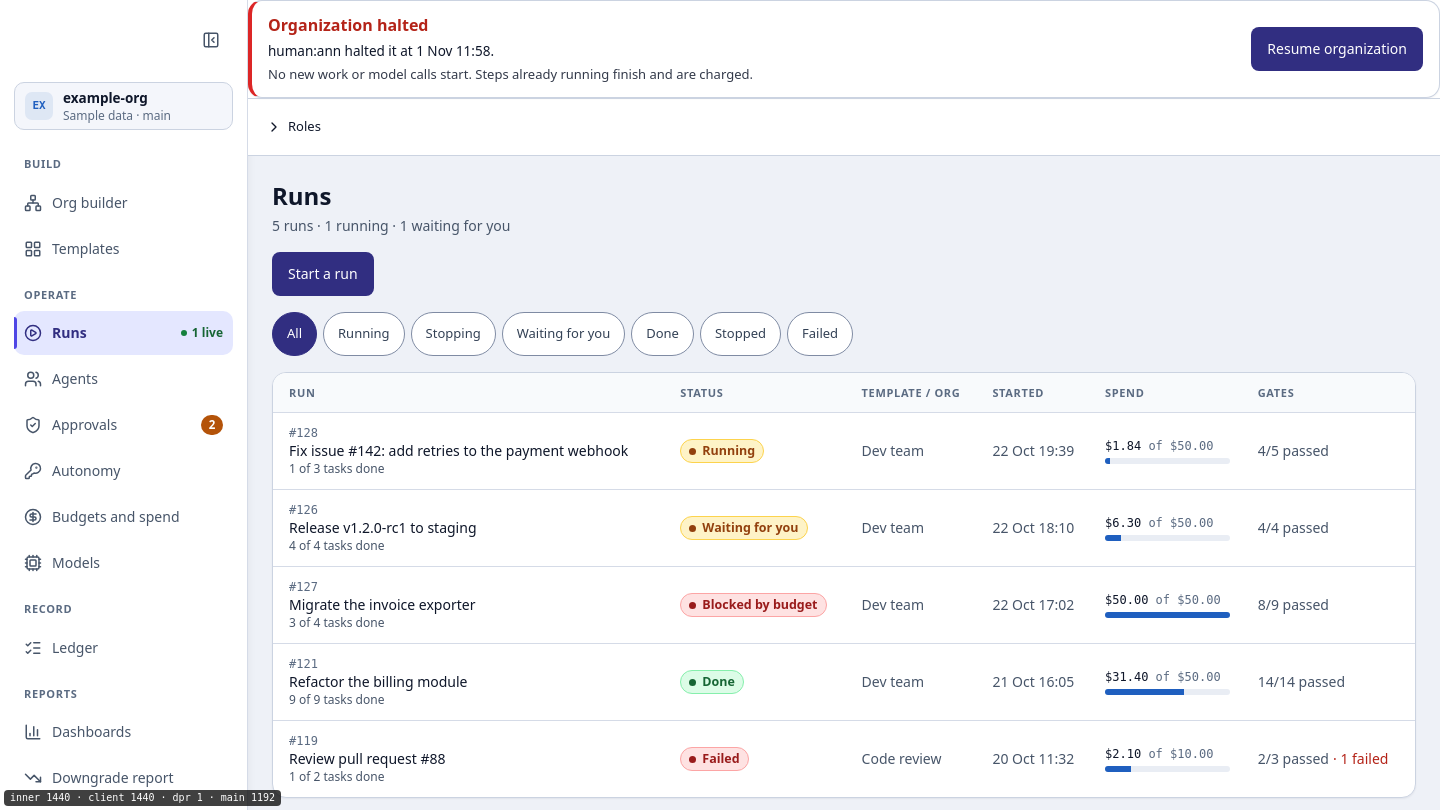
Test case: organization status bar (E19) › shows a halt on every page, with the Resume button for a person
The width and height of the screenshot is (1440, 810).
Expected: the text "Organization halted" is shown, [268, 14, 428, 36]
What coordinates should you click on to do the following:
click the button "Resume organization"
I would click on:
 (1337, 49)
Its box is [1251, 27, 1423, 71].
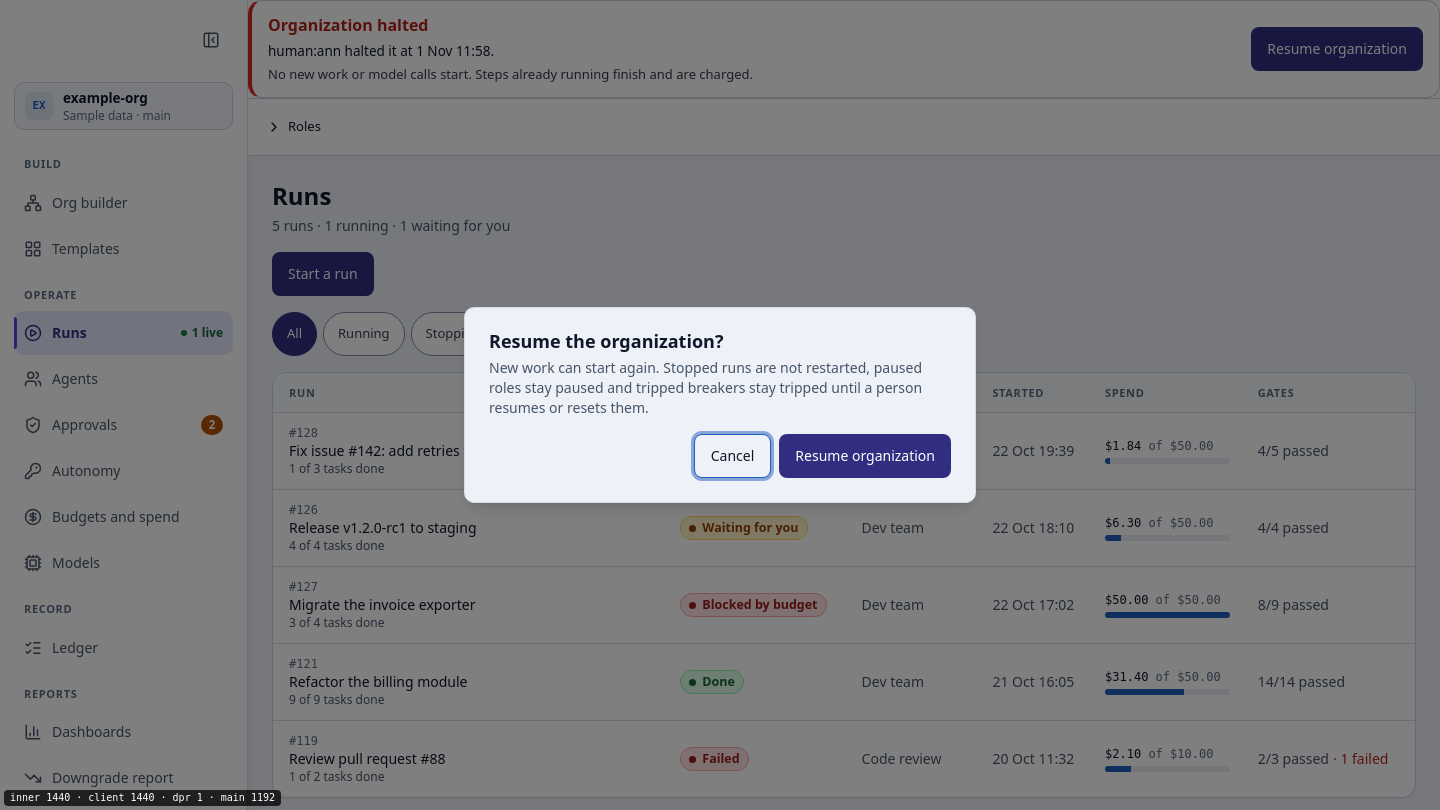
Expected: the dialog "Resume the organization?" is shown, [464, 307, 976, 503]
